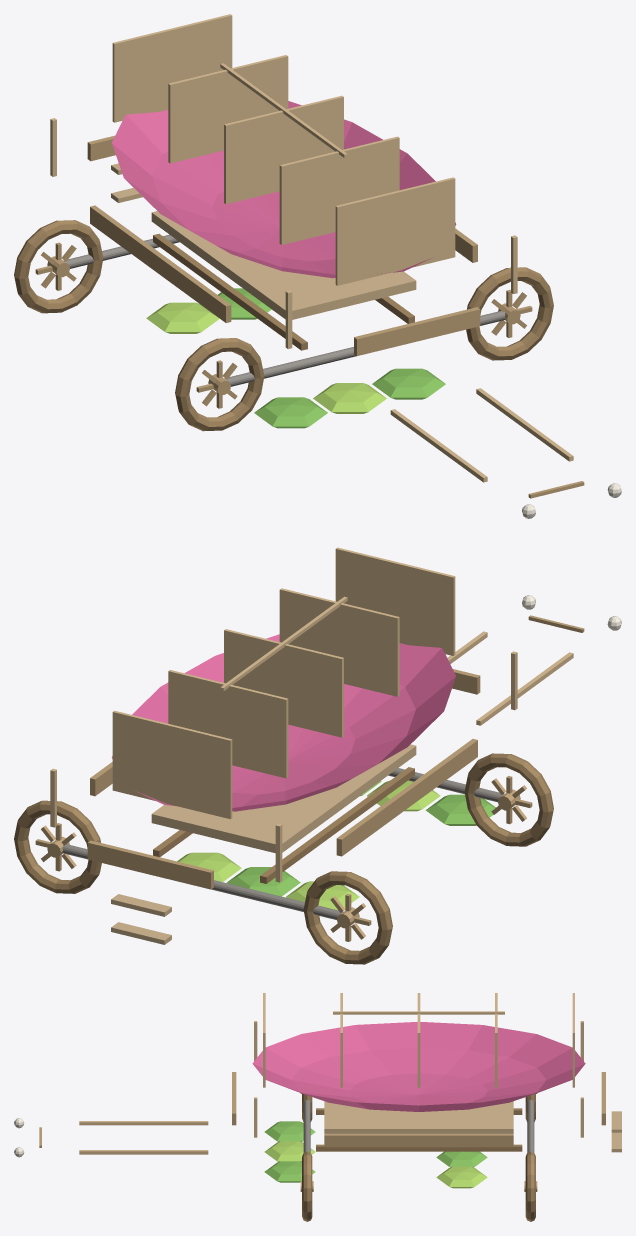
The model's file is Covered_Wagon.glb.
3 renders of one model, top to bottom at view 1: azimuth 30°, elevation 25°; view 2: azimuth 150°, elevation 25°; view 3: azimuth 270°, elevation 25°, orthographic. The views are drawn at different scales.
Parts seen in each view (by area): view 1: Covered_Wagon; view 2: Covered_Wagon; view 3: Covered_Wagon.
Part boxes in pixels (x1,y1,x2,y2): Covered_Wagon: [14, 14, 621, 518]; Covered_Wagon: [14, 547, 621, 964]; Covered_Wagon: [14, 993, 621, 1221].
Bounding box in the file's own units: 3.52 × 2.02 × 7.07.
